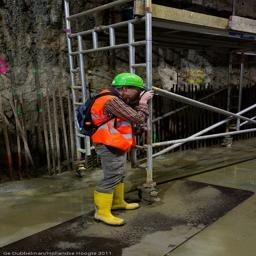hat: (114, 67, 154, 104)
vest: (83, 86, 142, 158)
